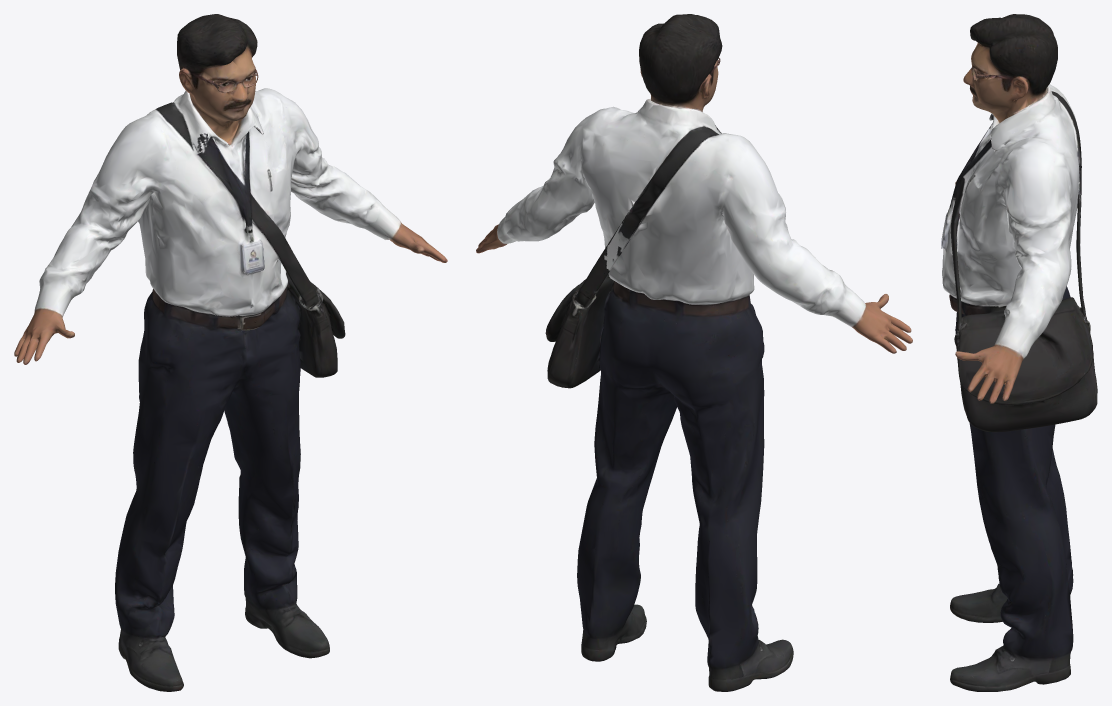
File: npc-clerk.glb
3 renders of one model, left to right at view 1: azimuth 30°, elevation 25°; view 2: azimuth 150°, elevation 25°; view 3: azimuth 270°, elevation 25°, orthographic.
Parts seen in each view (by area): view 1: SK_NPC_Clerk; view 2: SK_NPC_Clerk; view 3: SK_NPC_Clerk.
Part boxes in pixels (box(x1,y1,x2,y2)): SK_NPC_Clerk: box(14, 14, 447, 691); SK_NPC_Clerk: box(476, 14, 912, 691); SK_NPC_Clerk: box(941, 14, 1097, 691).
Size of the model in its own units: 132 by 189 by 42.23.
Materials: 1 (1 with a texture image).
